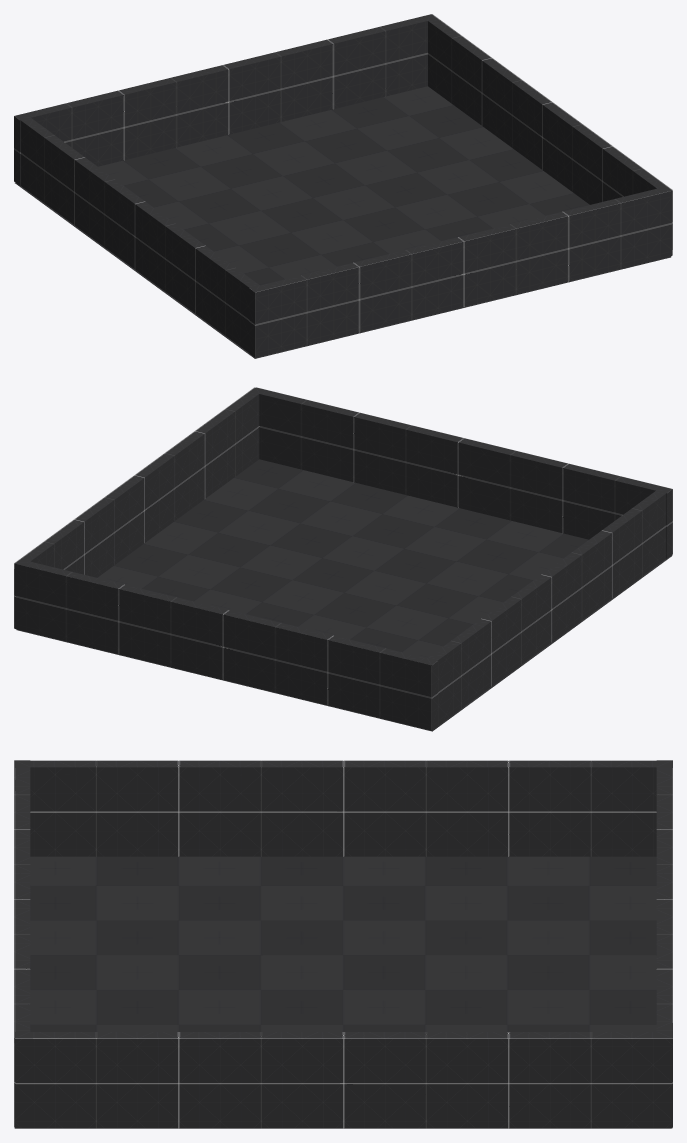
The model's file is level.glb.
3 views of the same model, one above another, from view 1: azimuth 30°, elevation 25°; view 2: azimuth 150°, elevation 25°; view 3: azimuth 270°, elevation 25° (orthographic). The views are drawn at different scales.
Parts seen in each view (by area): view 1: Walls, Floor; view 2: Walls, Floor; view 3: Walls, Floor.
Part boxes in pixels (bbox=[...]): Walls: bbox=[14, 14, 672, 357]; Floor: bbox=[15, 86, 670, 358]; Walls: bbox=[14, 387, 672, 730]; Floor: bbox=[16, 459, 672, 731]; Walls: bbox=[14, 760, 672, 1128]; Floor: bbox=[14, 856, 671, 1128].
Size of the model in its own units: 40.16 by 6.11 by 40.11.
Materials: 2 (2 with a texture image).
